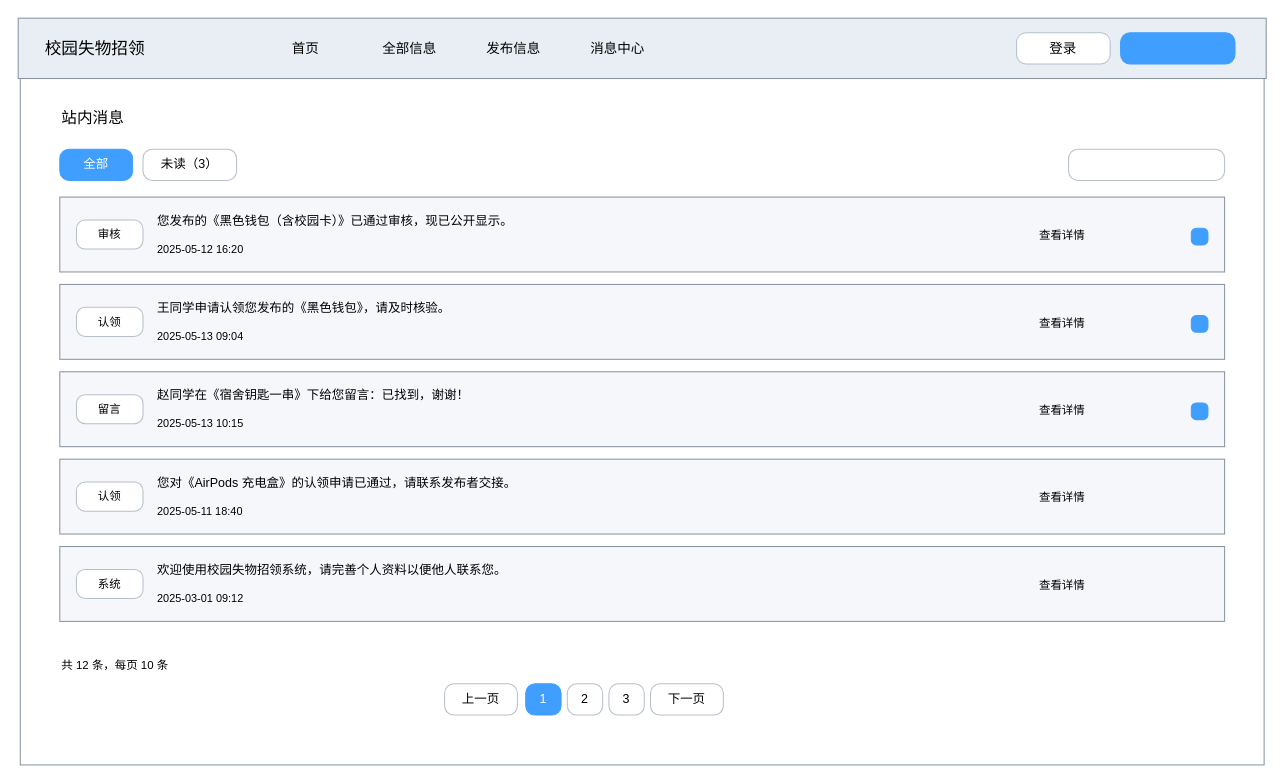
This 1284x783 diagram has some shape labels left out. Here are the shapes that lost their labels. From the top down, the centre of each, then its label:
At [1177,48]: "注册".
At [1146,164]: "全部标记已读".
